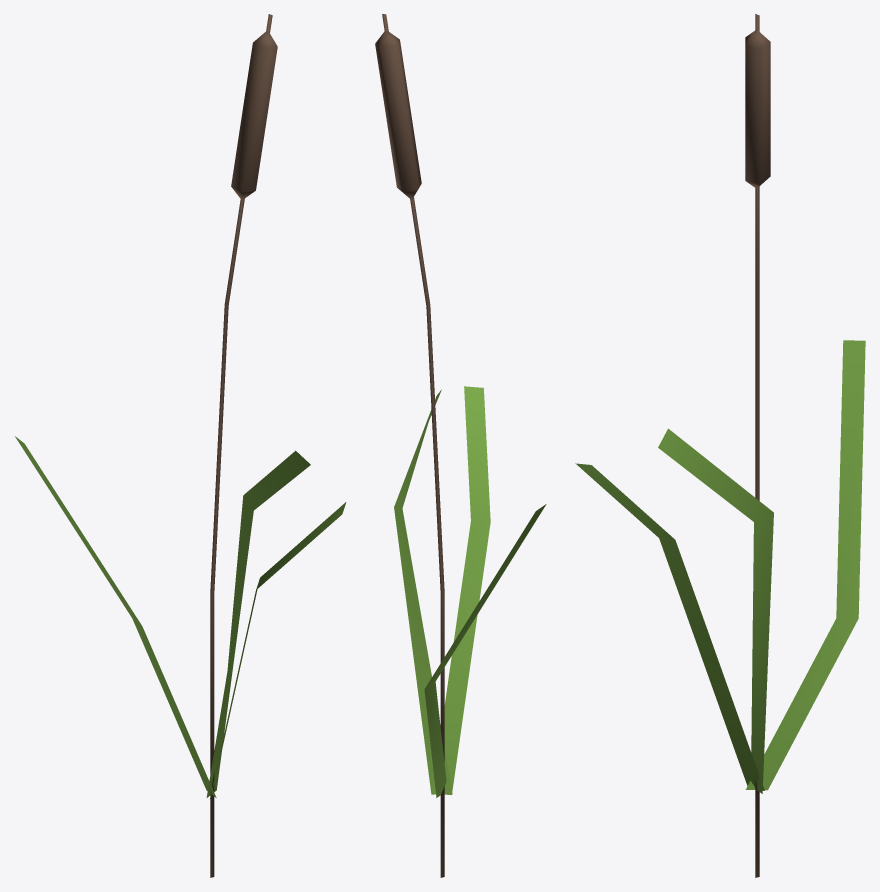
The model's file is Reed_5.fbx.
3 views of the same model, side by side, from view 1: azimuth 30°, elevation 25°; view 2: azimuth 150°, elevation 25°; view 3: azimuth 270°, elevation 25° (orthographic). The views are drawn at different scales.
Parts seen in each view (by area): view 1: Reed 5; view 2: Reed 5; view 3: Reed 5.
Part boxes in pixels (left/top/right/bottom): Reed 5: left=15, top=14, right=346, bottom=877; Reed 5: left=375, top=14, right=546, bottom=877; Reed 5: left=575, top=14, right=865, bottom=877.
Bounding box in the file's own units: 72.17 × 277 × 81.83.
